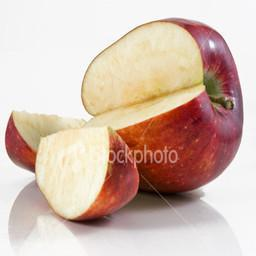apple: (81, 17, 244, 195)
